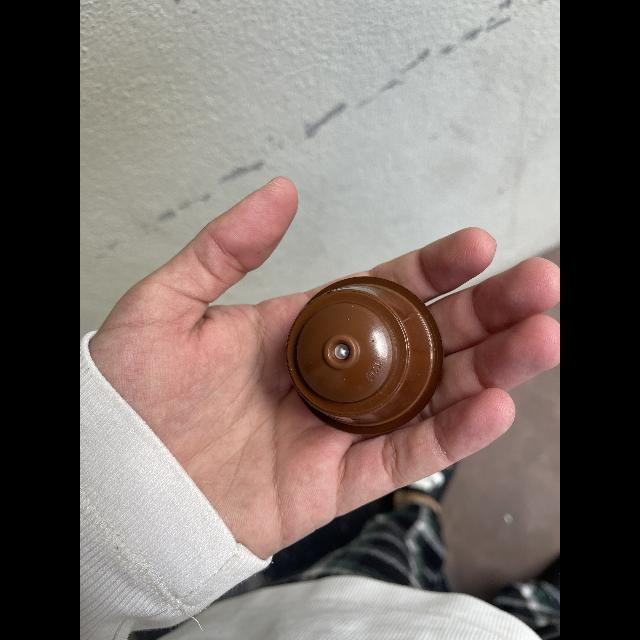intact_capsule: (276, 272, 448, 438)
